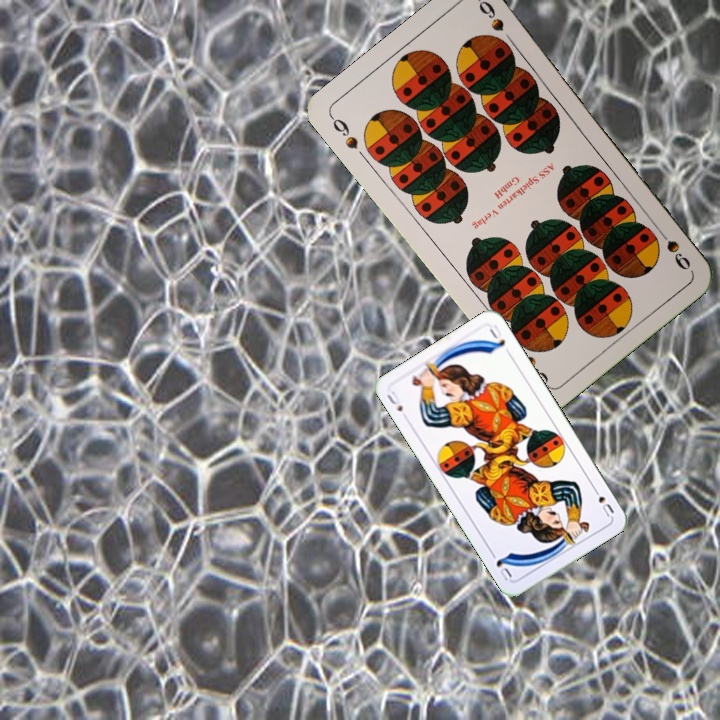S9: (651, 222, 694, 273), (326, 112, 361, 152)
SU: (588, 483, 617, 519), (382, 387, 405, 414)
